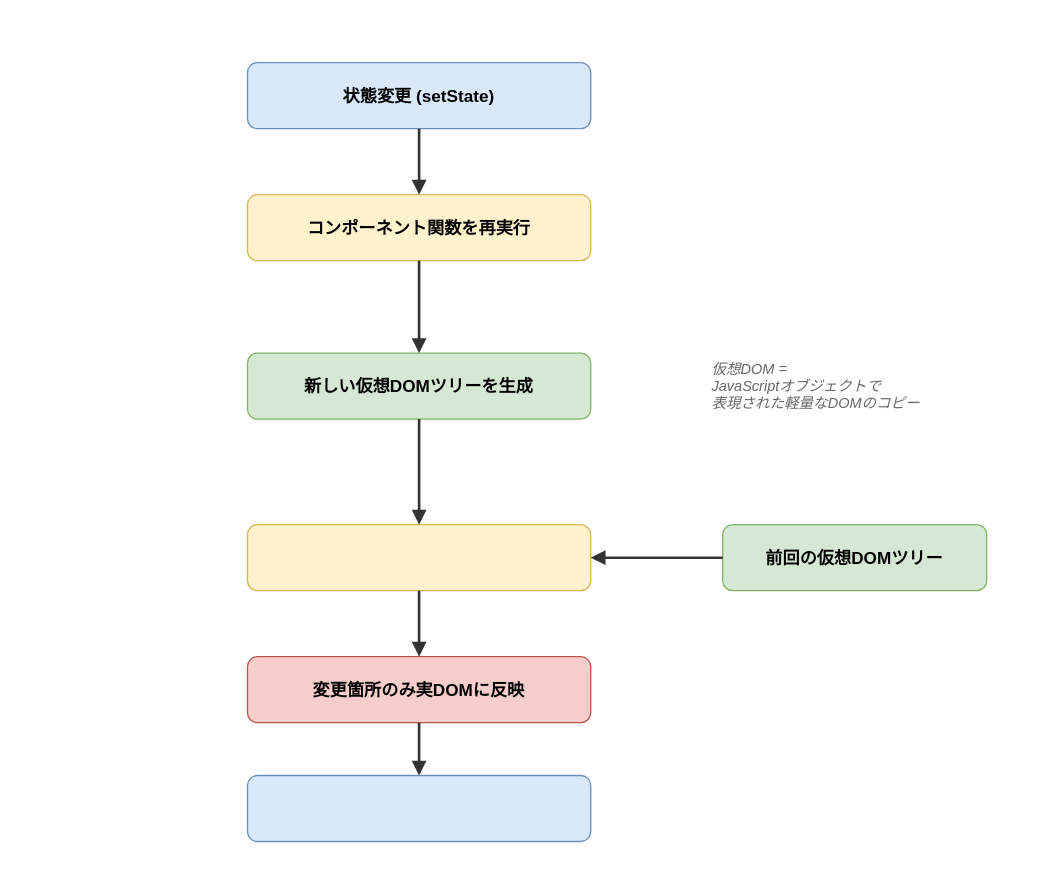
The diagram is 1048 pixels wide and 890 high, and some of its shapes have lost their labels. The box of each missing label's shape, as (x1, y1, x2, y2) in pixels:
差分検出 (Reconciliation): (246, 523, 591, 591)
画面更新完了: (246, 774, 591, 842)
